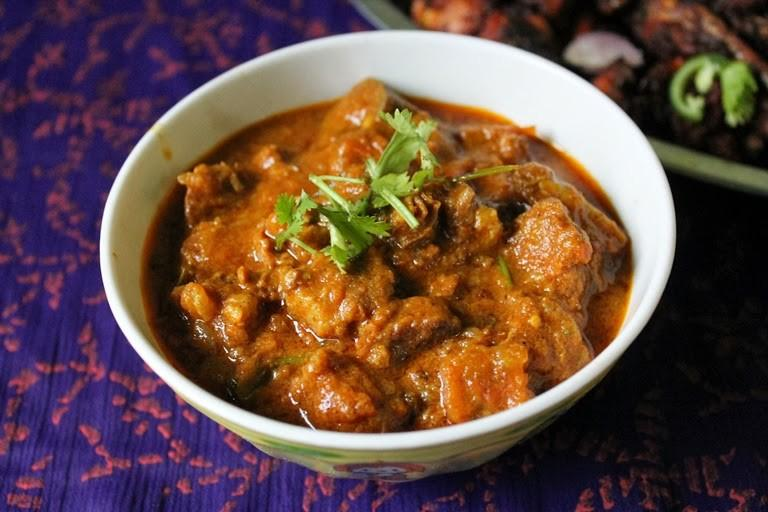MuttonCurry: (142, 74, 637, 432)
